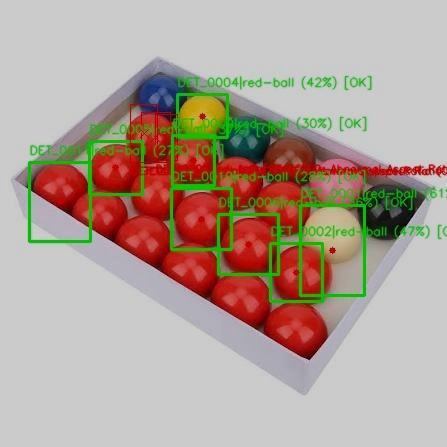black-ball: (374, 238, 418, 282)
blue-ball: (139, 76, 187, 124)
brown-ball: (311, 165, 359, 213)
green-ball: (212, 157, 260, 205)
pink-ball: (362, 179, 410, 227)
red-ball: (86, 141, 134, 189), (125, 165, 173, 213), (165, 245, 213, 293), (171, 197, 219, 245), (166, 128, 214, 176), (215, 115, 263, 163), (226, 223, 274, 271), (217, 274, 265, 322), (259, 178, 307, 226), (279, 253, 327, 301), (272, 296, 320, 344), (75, 192, 121, 238), (125, 116, 171, 162), (119, 213, 165, 259), (35, 159, 79, 203)
white-ball: (329, 247, 377, 295)
yellow-ball: (181, 82, 229, 130)
